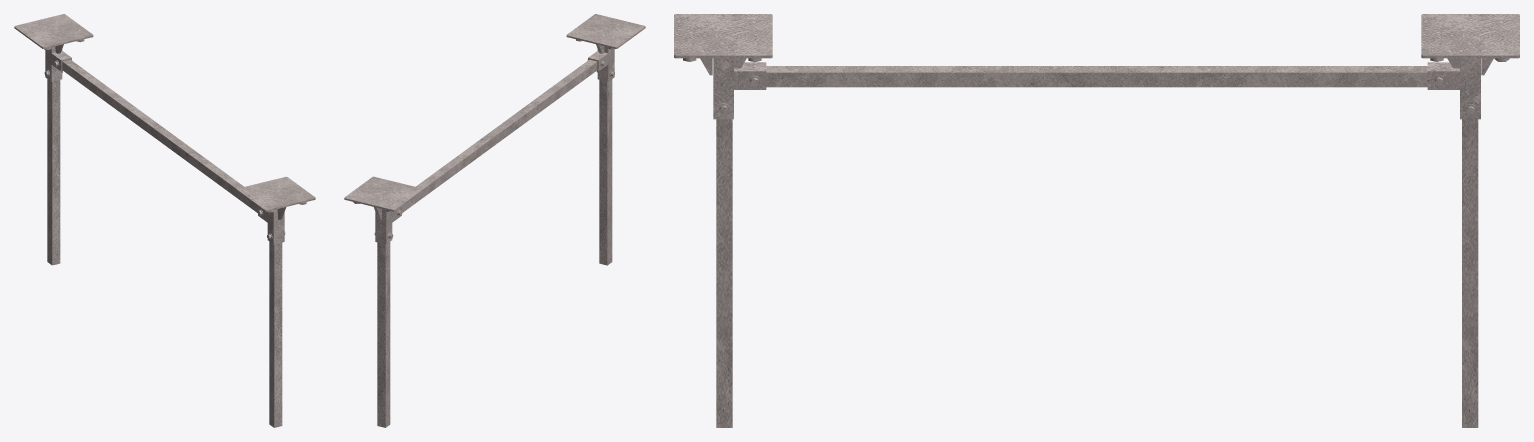
The model's file is SM_Pipe_Group_01j.glb.
3 views of the same model, side by side, from view 1: azimuth 30°, elevation 25°; view 2: azimuth 150°, elevation 25°; view 3: azimuth 270°, elevation 25° (orthographic). The views are drawn at different scales.
Parts seen in each view (by area): view 1: SM_Pipe_Group_01j; view 2: SM_Pipe_Group_01j; view 3: SM_Pipe_Group_01j.
Boxes of the visible parts, left/top/right/bottom form: SM_Pipe_Group_01j: left=14, top=14, right=315, bottom=427; SM_Pipe_Group_01j: left=344, top=14, right=645, bottom=427; SM_Pipe_Group_01j: left=674, top=14, right=1519, bottom=427.
Bounding box in the file's own units: 0.2335 × 1.02 × 2.
1 material, 1 textured.
